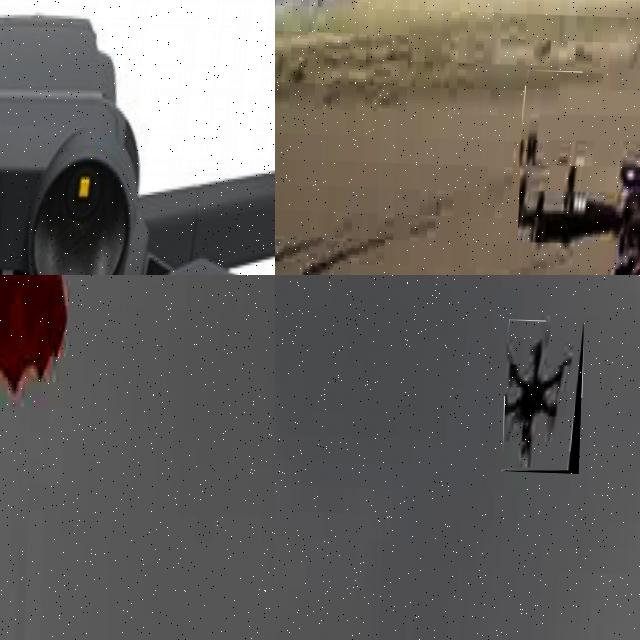0: (510, 70, 640, 275), (502, 320, 584, 474)
drone: (0, 0, 275, 275)
